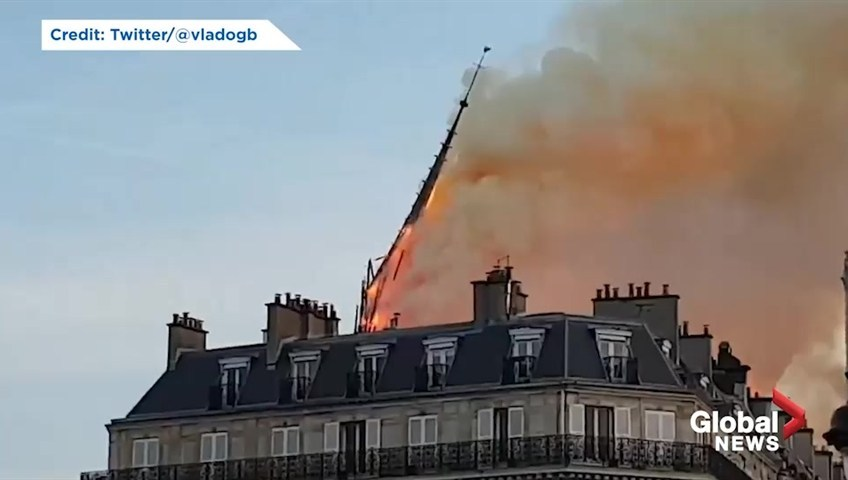smoke: (695, 15, 837, 339), (511, 66, 692, 292), (415, 202, 476, 320), (471, 104, 509, 192)
